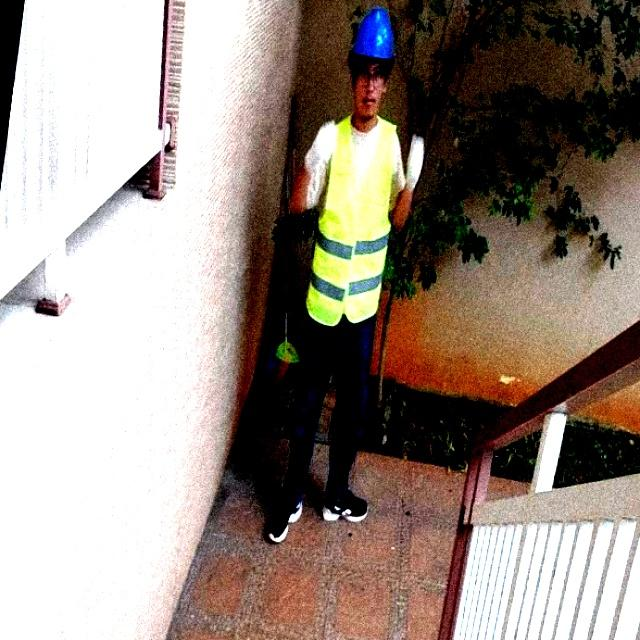helmet: (344, 8, 402, 58)
safety_vest: (299, 112, 402, 329)
